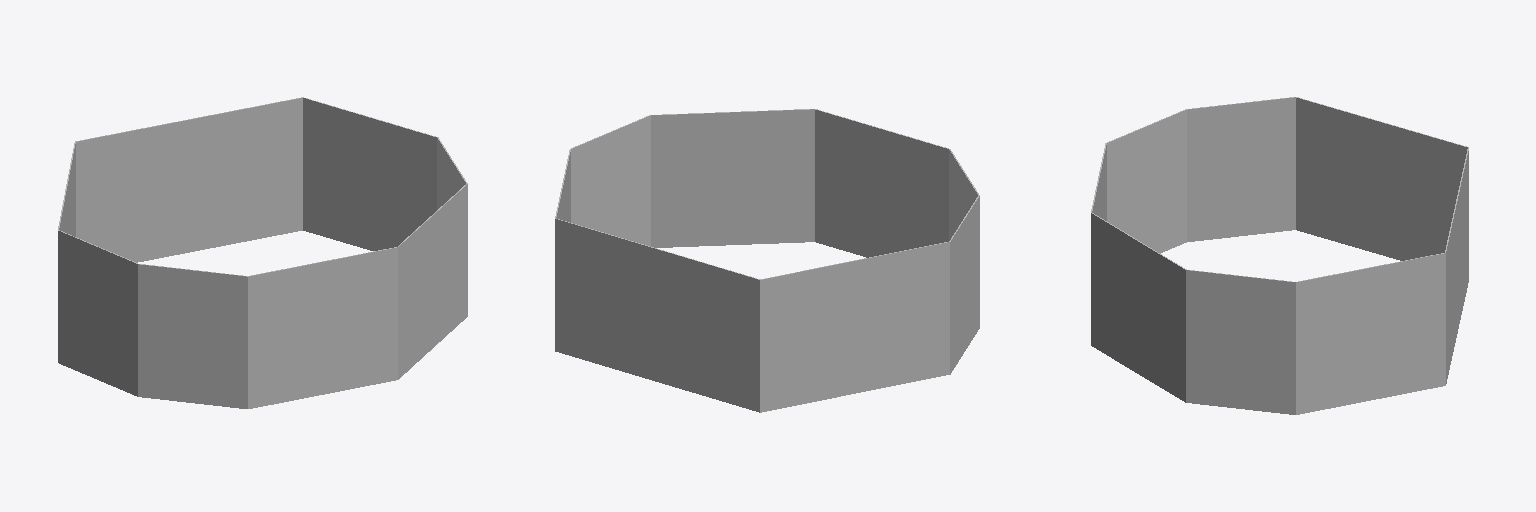
File: gate16.obj
3 views of the same model, side by side, from view 1: azimuth 30°, elevation 25°; view 2: azimuth 150°, elevation 25°; view 3: azimuth 270°, elevation 25° (orthographic).
Visible parts, largest first — view 1: Cylinder; view 2: Cylinder; view 3: Cylinder.
Boxes of the visible parts, box(x1,y1,x2,y2) form: Cylinder: box(58, 97, 467, 408); Cylinder: box(555, 109, 979, 412); Cylinder: box(1091, 97, 1468, 414).
Bounding box in the file's own units: 3 × 1 × 2.58.